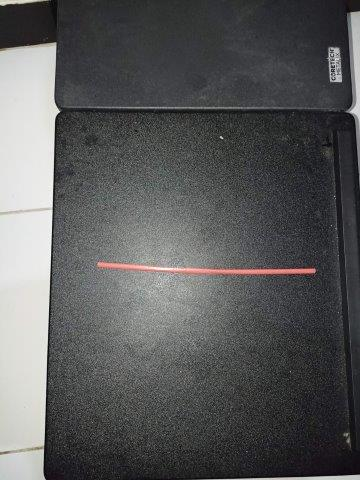sedotan: (98, 261, 316, 275)
